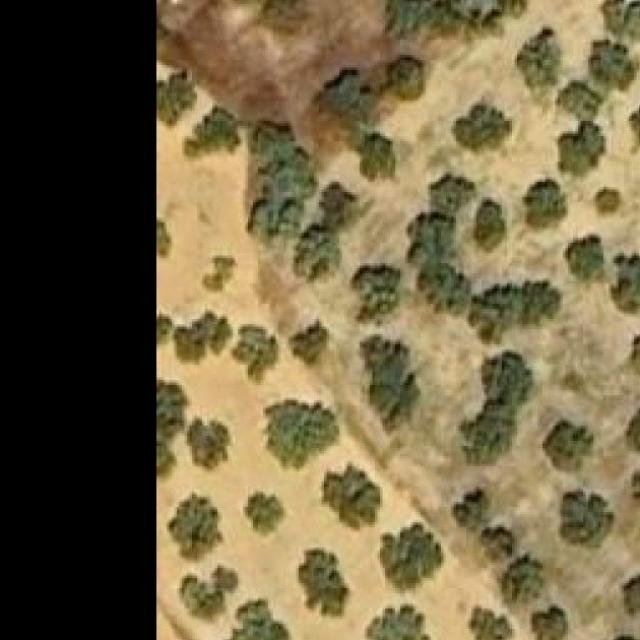Tree: (244, 121, 317, 239), (379, 0, 524, 43), (263, 401, 339, 466), (362, 334, 412, 424), (377, 525, 441, 591), (319, 65, 380, 134), (296, 548, 354, 618), (454, 406, 519, 464), (166, 494, 222, 560), (324, 466, 380, 530), (472, 278, 528, 338), (179, 566, 238, 622), (476, 352, 534, 408), (560, 488, 614, 548), (214, 598, 288, 640), (173, 312, 230, 366), (516, 24, 560, 90), (587, 40, 640, 94), (453, 106, 512, 154), (352, 263, 401, 319), (407, 207, 456, 263), (542, 421, 594, 472), (366, 600, 431, 640), (558, 124, 606, 178), (416, 258, 466, 309), (184, 116, 240, 161), (233, 324, 278, 378), (184, 418, 229, 472), (565, 236, 608, 290), (524, 178, 568, 228), (294, 228, 339, 273), (471, 200, 507, 254), (431, 170, 476, 213), (503, 556, 547, 599), (360, 131, 398, 180), (155, 68, 189, 122), (245, 490, 285, 535), (554, 80, 604, 116), (450, 487, 489, 533), (612, 250, 640, 314), (524, 276, 563, 321), (293, 317, 326, 368), (598, 0, 640, 40), (321, 182, 357, 227), (469, 605, 515, 640), (392, 58, 428, 101), (202, 255, 238, 294), (483, 522, 517, 560), (532, 605, 568, 640), (622, 564, 640, 615), (595, 190, 619, 213)
